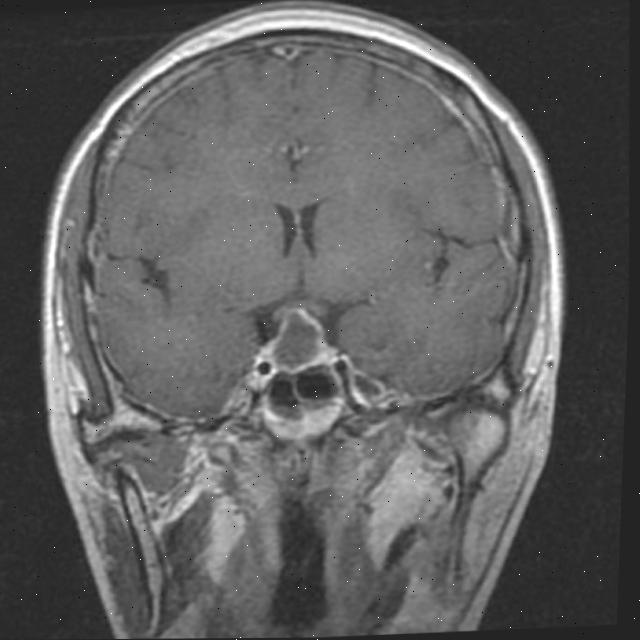Pituitary: (268, 304, 341, 374), (254, 389, 346, 440)
